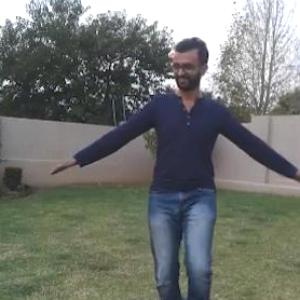land: (49, 32, 299, 299)
